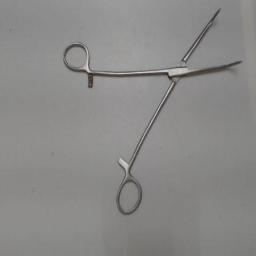Lahey Forceps: (59, 2, 249, 220)
